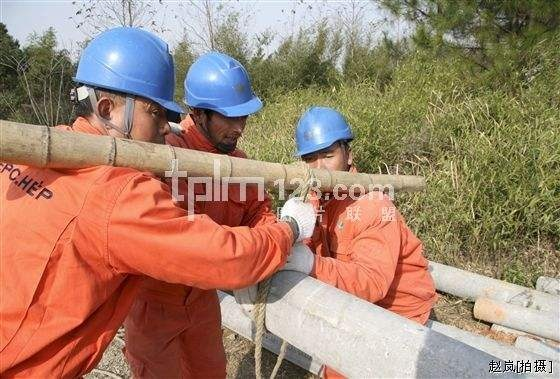blue: (73, 22, 174, 153), (181, 47, 253, 149), (292, 105, 351, 178)
